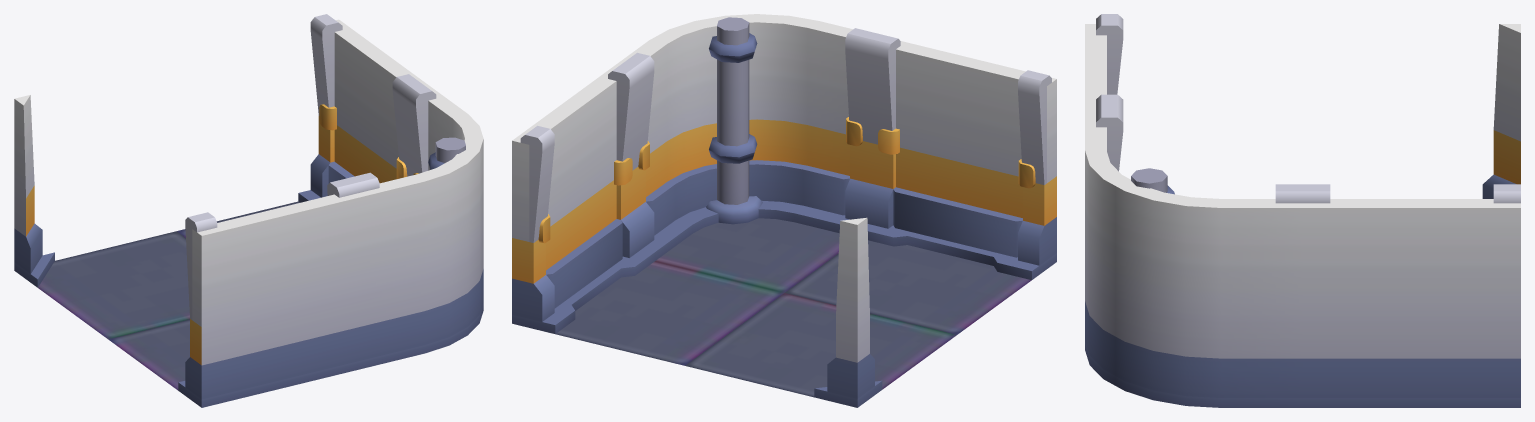
The model's file is corridor-wide-corner.glb.
3 views of the same model, side by side, from view 1: azimuth 30°, elevation 25°; view 2: azimuth 150°, elevation 25°; view 3: azimuth 270°, elevation 25° (orthographic). The views are drawn at different scales.
Parts seen in each view (by area): view 1: corridor-wide-corner; view 2: corridor-wide-corner; view 3: corridor-wide-corner.
Boxes of the visible parts, bbox=[...] form: corridor-wide-corner: bbox=[14, 14, 483, 407]; corridor-wide-corner: bbox=[512, 14, 1056, 407]; corridor-wide-corner: bbox=[1085, 14, 1520, 407].
Bounding box in the file's own units: 8 × 4.25 × 8.
Materials: 1 (1 with a texture image).
